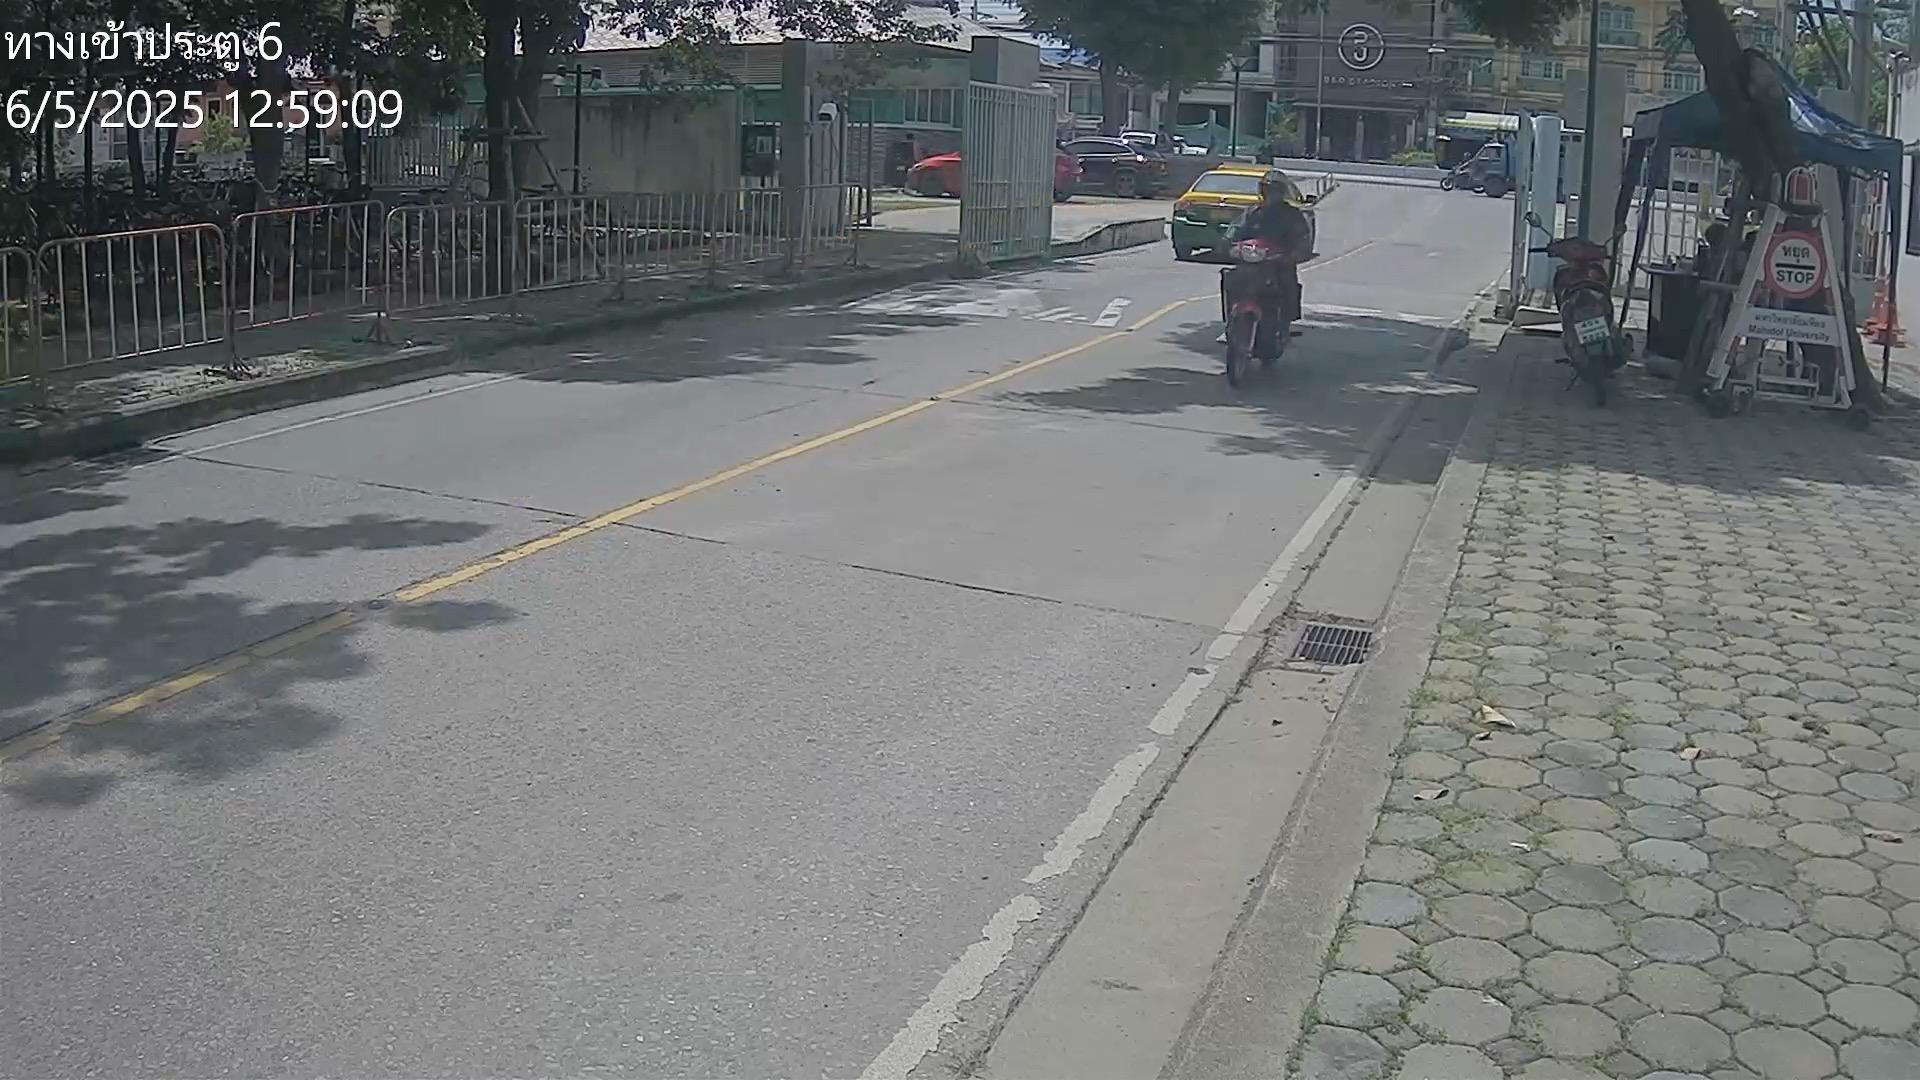With-Helmet: (1258, 167, 1290, 204)
